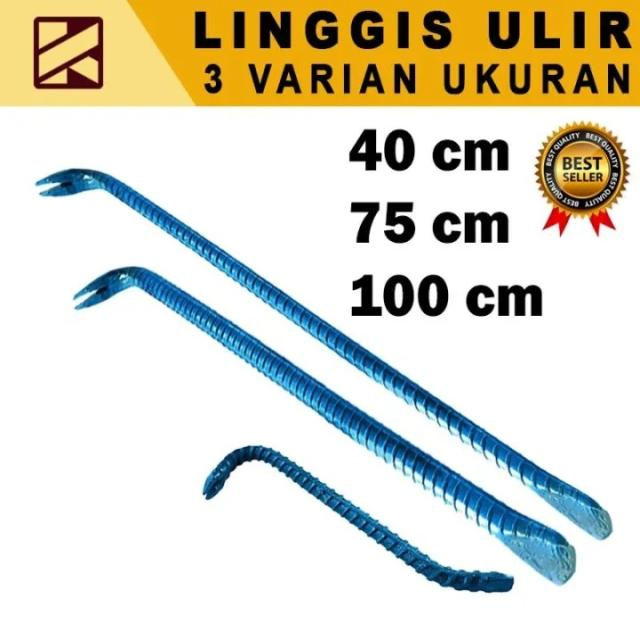Linggis: (38, 164, 614, 540)
